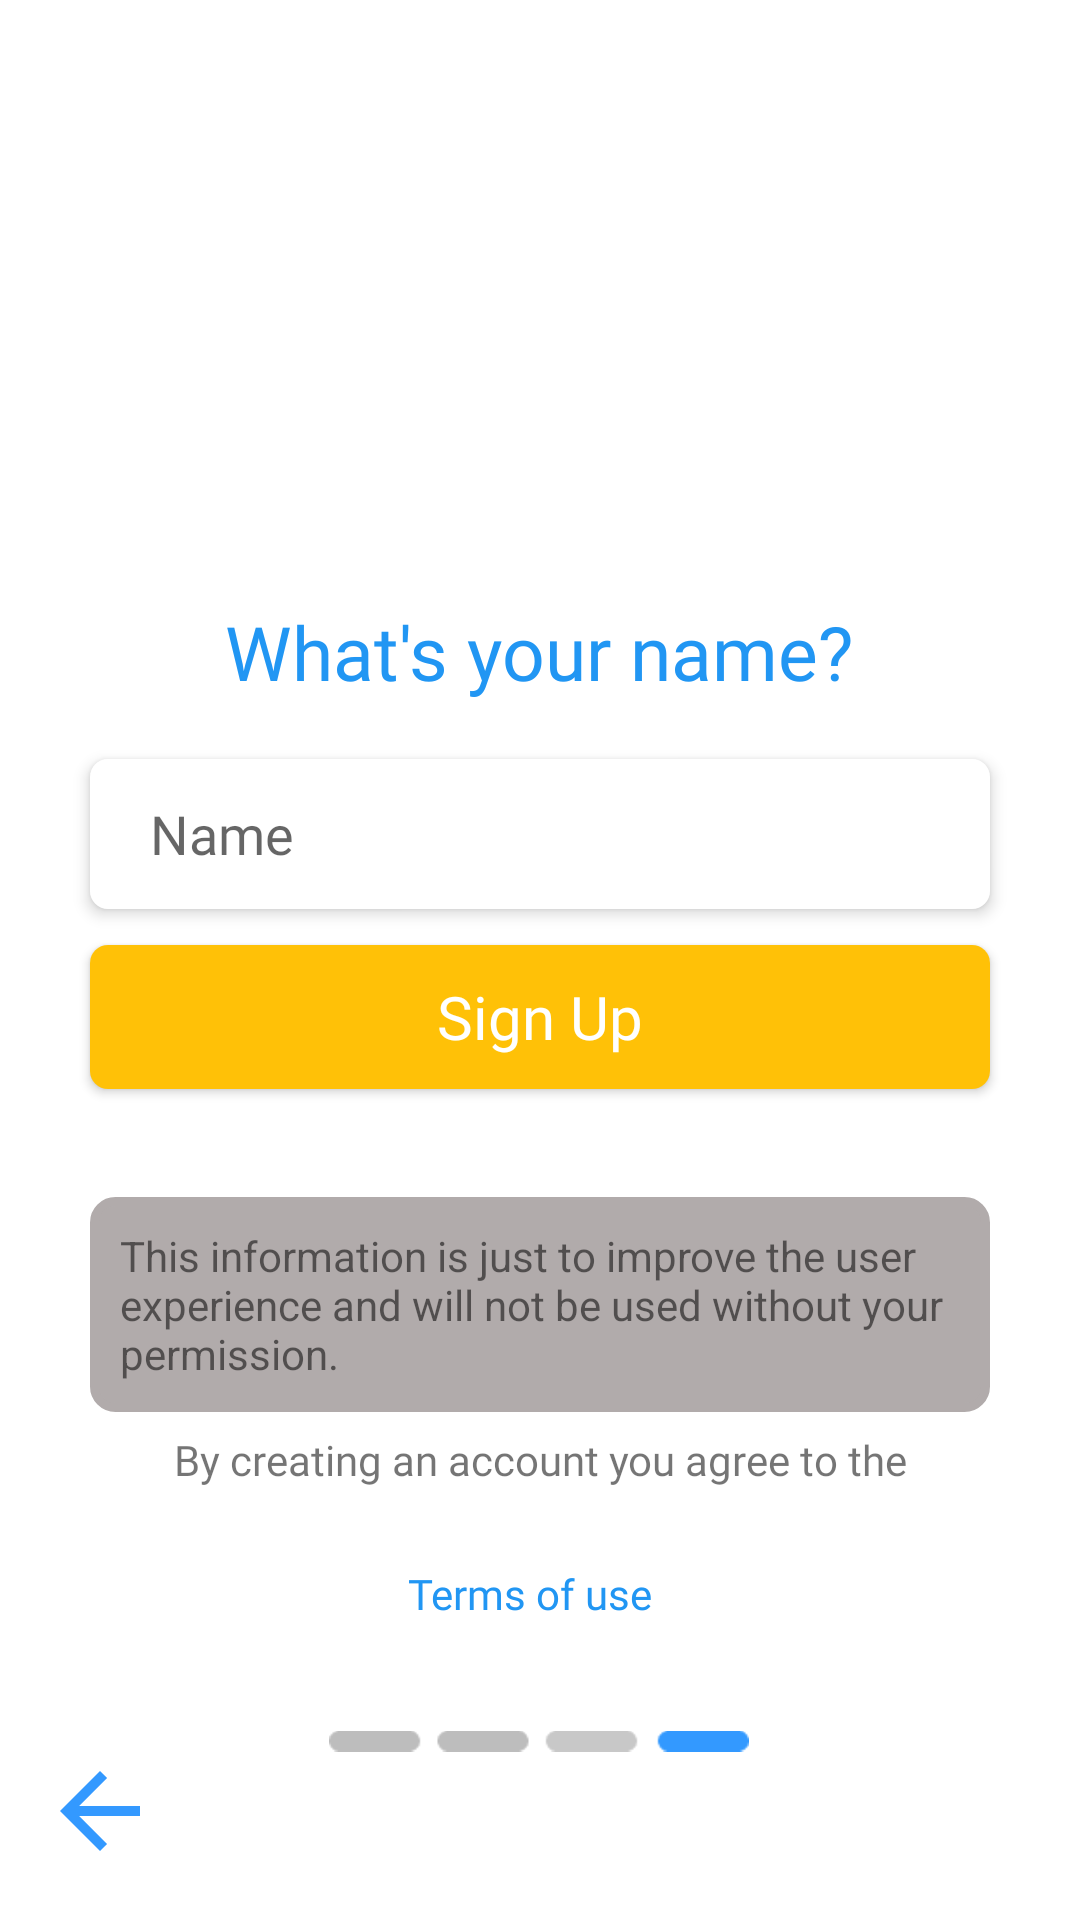

Named icons in this screenshot (1080px×1920px) and their centers, (x,y):
back: (100,1811)
